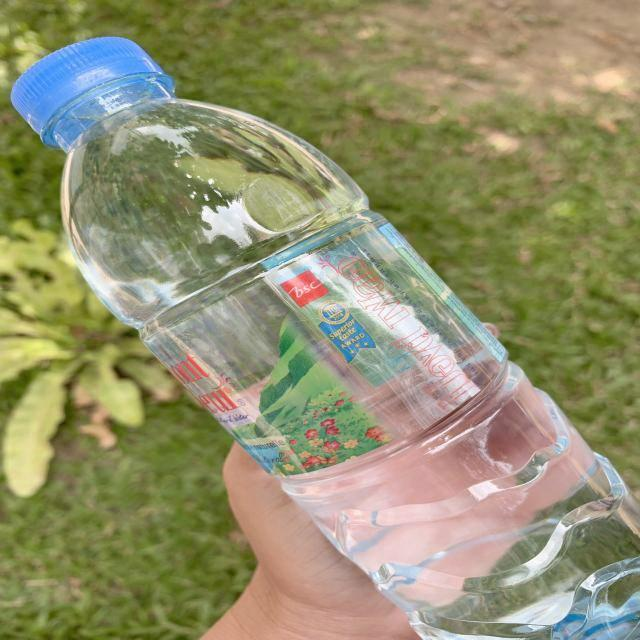bottle: (10, 36, 640, 639)
